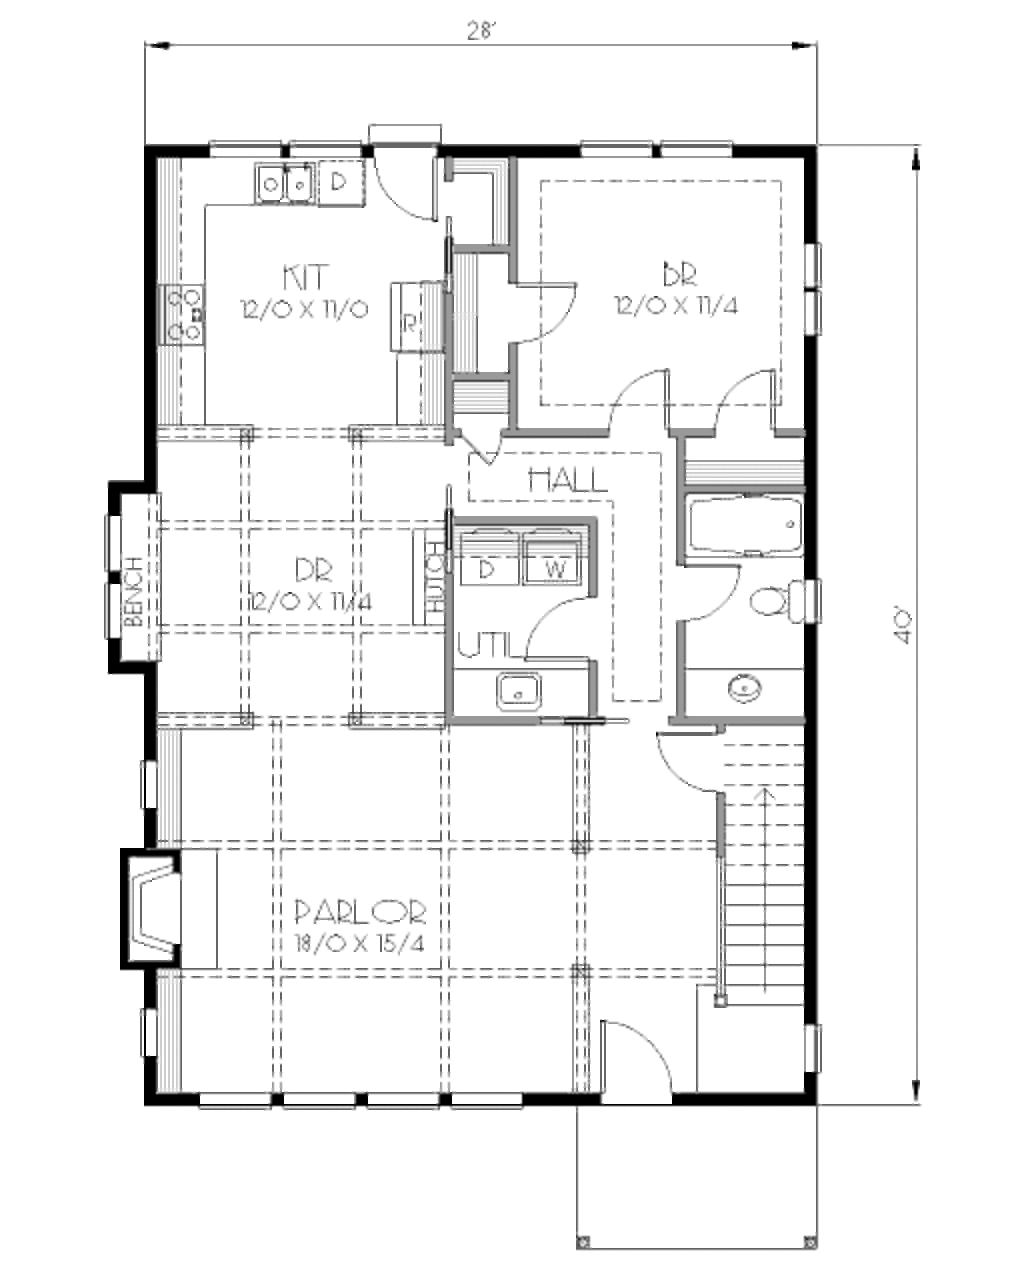door: (364, 119, 460, 227), (584, 1009, 678, 1103), (520, 589, 612, 669), (700, 365, 784, 445), (508, 277, 586, 353), (604, 360, 674, 443), (654, 723, 724, 801), (666, 559, 738, 627), (464, 429, 514, 478)
large_sink: (752, 569, 827, 629)
sink: (476, 661, 560, 719)
small_sink: (686, 671, 812, 721)
stairs: (716, 725, 814, 1021)
tub: (684, 493, 806, 551)
twin_sink: (250, 161, 326, 225)
window: (202, 1087, 526, 1117), (88, 511, 126, 643), (650, 129, 748, 167), (804, 235, 828, 355), (574, 133, 660, 163), (132, 755, 170, 813), (140, 1005, 168, 1063)
